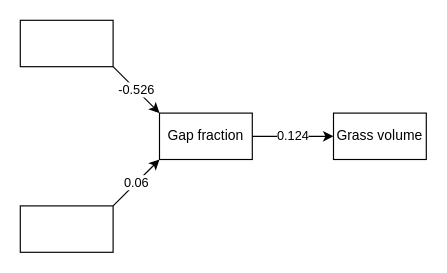
Image size: 447x273. Some labels were removed from this diagram. Here are the shapes that lost their labels. From the top down, the box of each, then its label:
(19, 19, 113, 67): Tree density
(19, 205, 113, 252): Richness
